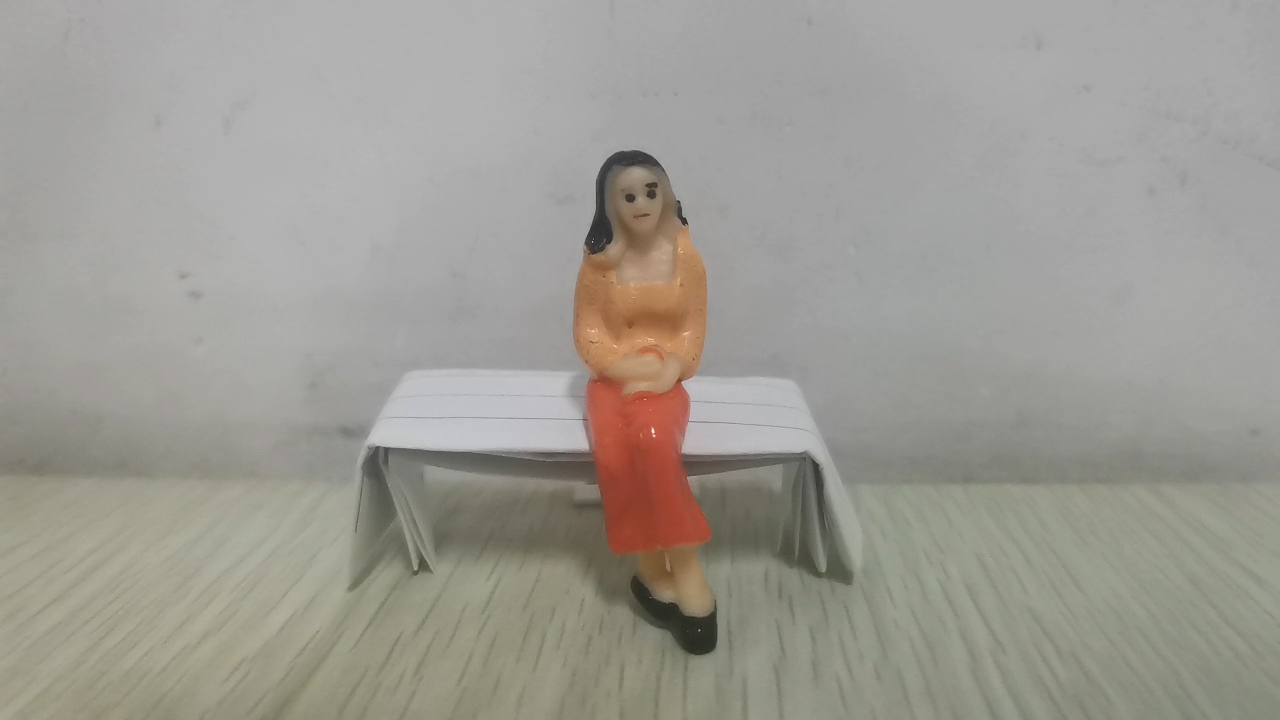person: (570, 148, 721, 657)
